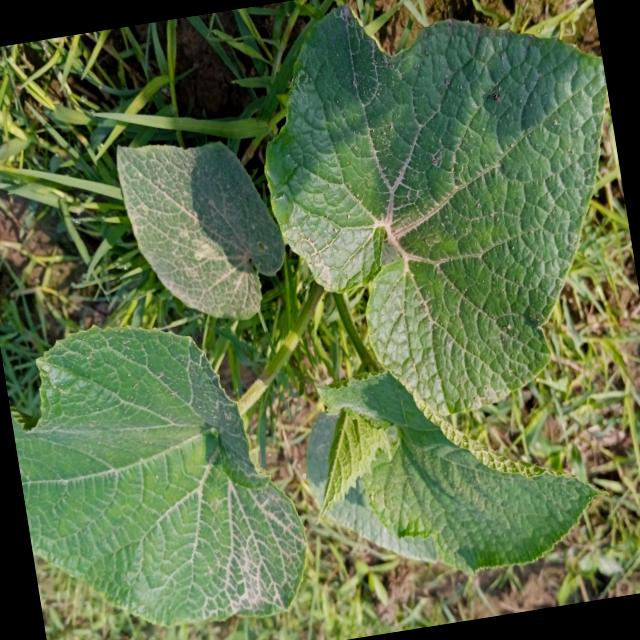cucumber_healthy: (236, 0, 640, 449), (0, 288, 327, 640), (283, 329, 609, 611), (100, 108, 300, 350)
